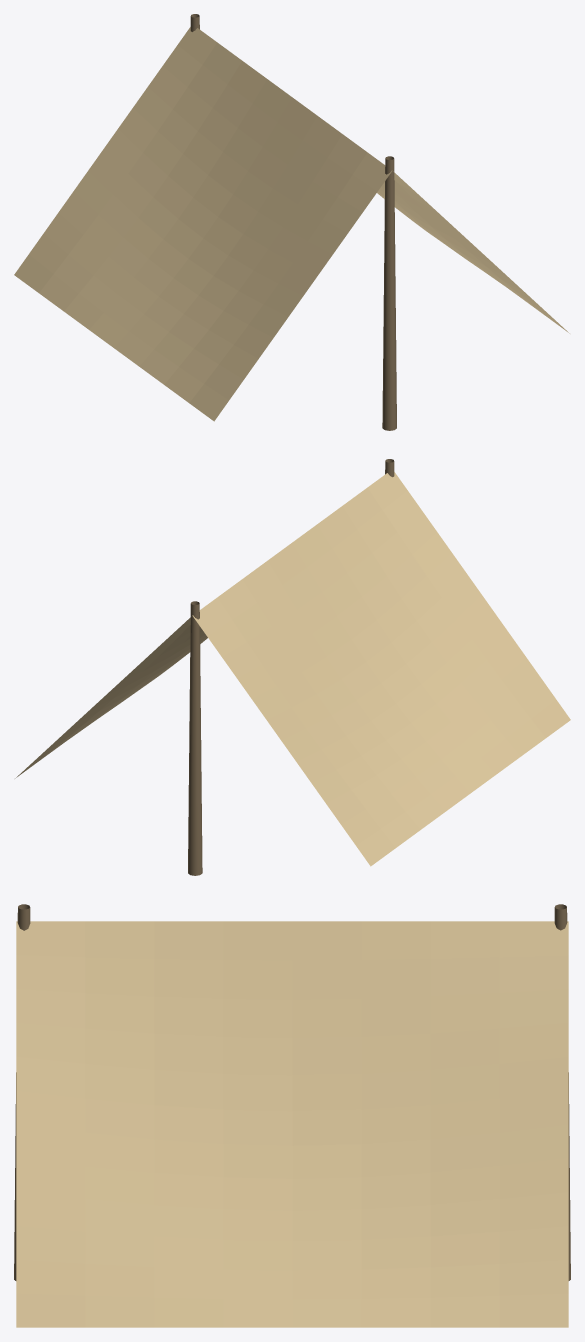
The model's file is shelter.glb.
3 views of the same model, one above another, from view 1: azimuth 30°, elevation 25°; view 2: azimuth 150°, elevation 25°; view 3: azimuth 270°, elevation 25° (orthographic). The views are drawn at different scales.
Visible parts, largest first — view 1: sagging canvas, shelter pole; view 2: sagging canvas, shelter pole.001; view 3: sagging canvas, shelter pole, shelter pole.001.
Part boxes in pixels (bbox=[...]): sagging canvas: bbox=[14, 27, 569, 421]; shelter pole: bbox=[382, 156, 396, 430]; sagging canvas: bbox=[15, 472, 570, 866]; shelter pole.001: bbox=[188, 601, 202, 875]; sagging canvas: bbox=[16, 921, 568, 1327]; shelter pole: bbox=[14, 904, 30, 1280]; shelter pole.001: bbox=[554, 904, 570, 1280].
Size of the model in its own units: 3.6 by 2.6 by 3.53.
